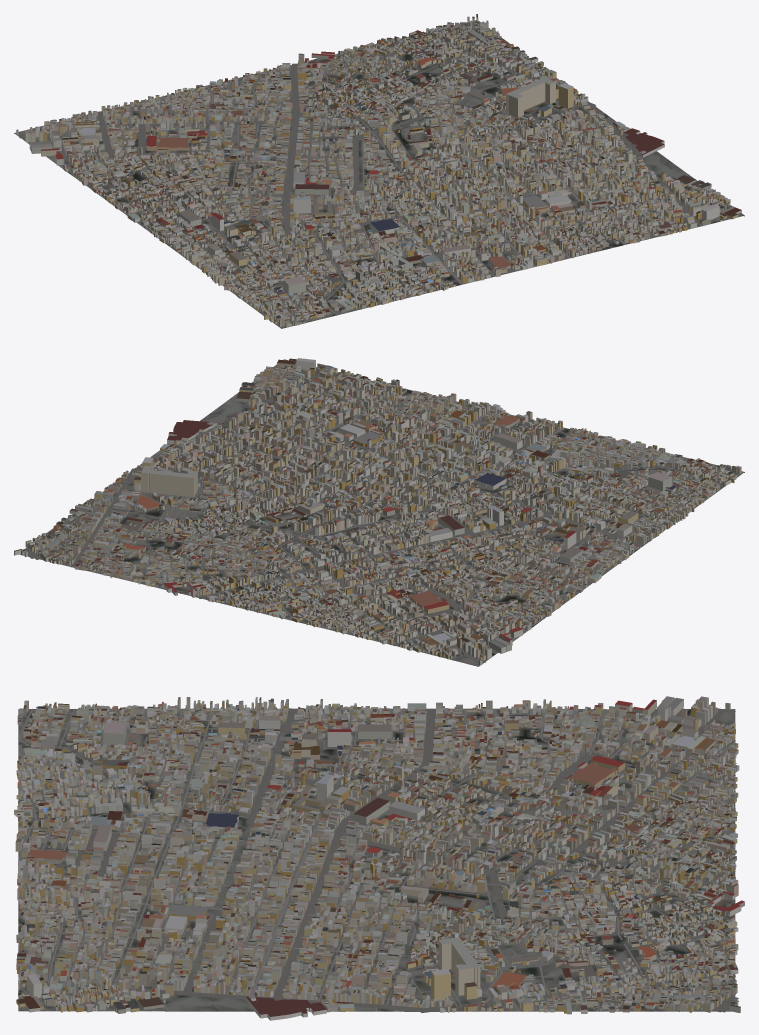
3 renders of one model, top to bottom at view 1: azimuth 30°, elevation 25°; view 2: azimuth 150°, elevation 25°; view 3: azimuth 270°, elevation 25°, orthographic. The views are drawn at different scales.
Parts seen in each view (by area): view 1: buildings, ground, roads; view 2: buildings, ground, roads; view 3: buildings, ground, roads.
Boxes of the visible parts, left/top/right/bottom form: buildings: left=16, top=14, right=741, bottom=326; ground: left=14, top=20, right=744, bottom=328; roads: left=15, top=22, right=730, bottom=326; buildings: left=14, top=358, right=741, bottom=665; ground: left=19, top=359, right=744, bottom=666; roads: left=22, top=366, right=739, bottom=666; buildings: left=14, top=696, right=744, bottom=1020; ground: left=18, top=708, right=735, bottom=1011; roads: left=18, top=708, right=738, bottom=1012.
Size of the model in its own units: 1464 by 59.69 by 1428.
